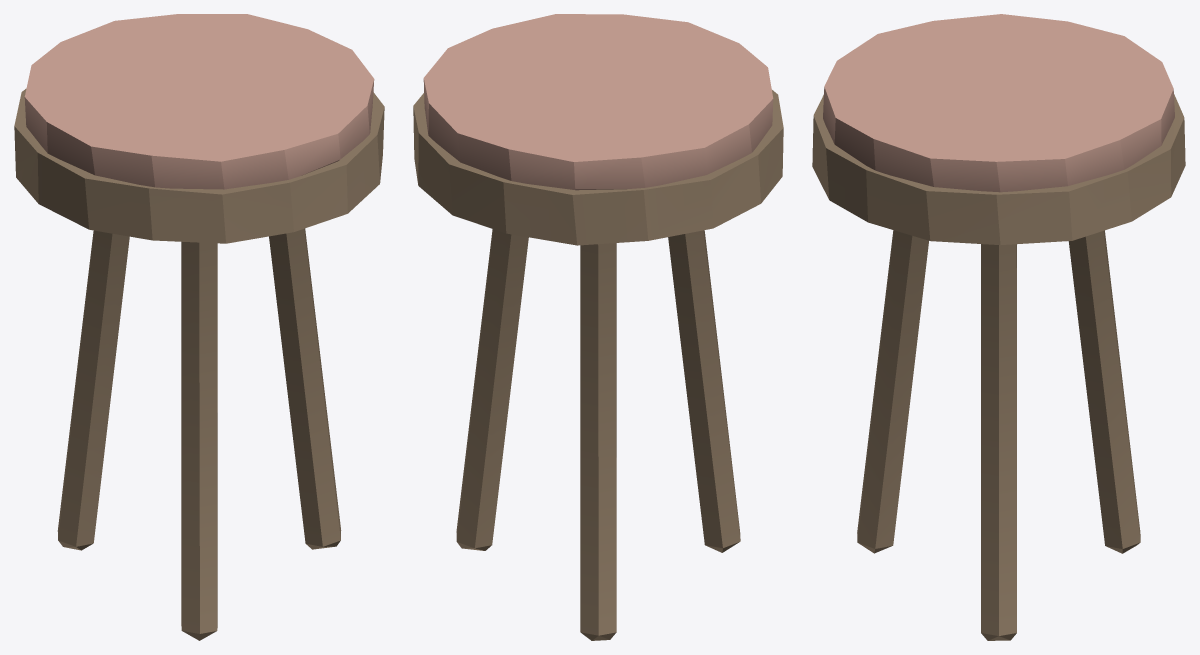
Rendered from furn_stool__walnut_low.glb.
3 views of the same model, side by side, from view 1: azimuth 30°, elevation 25°; view 2: azimuth 150°, elevation 25°; view 3: azimuth 270°, elevation 25° (orthographic).
Bounding box in the file's own units: 0.3566 × 0.5192 × 0.3566.
